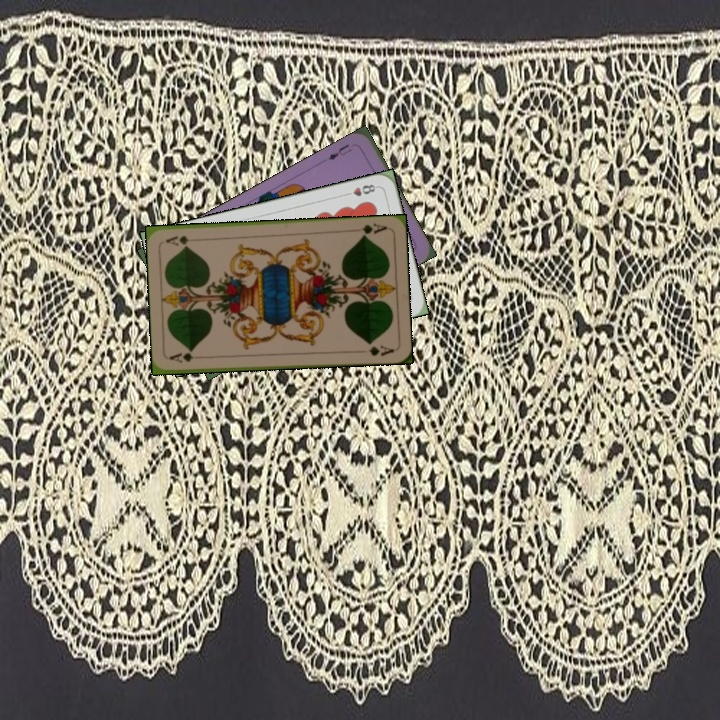EU: (324, 140, 354, 163)
GA: (349, 219, 390, 240), (166, 349, 207, 365)
H8: (340, 180, 380, 199)
